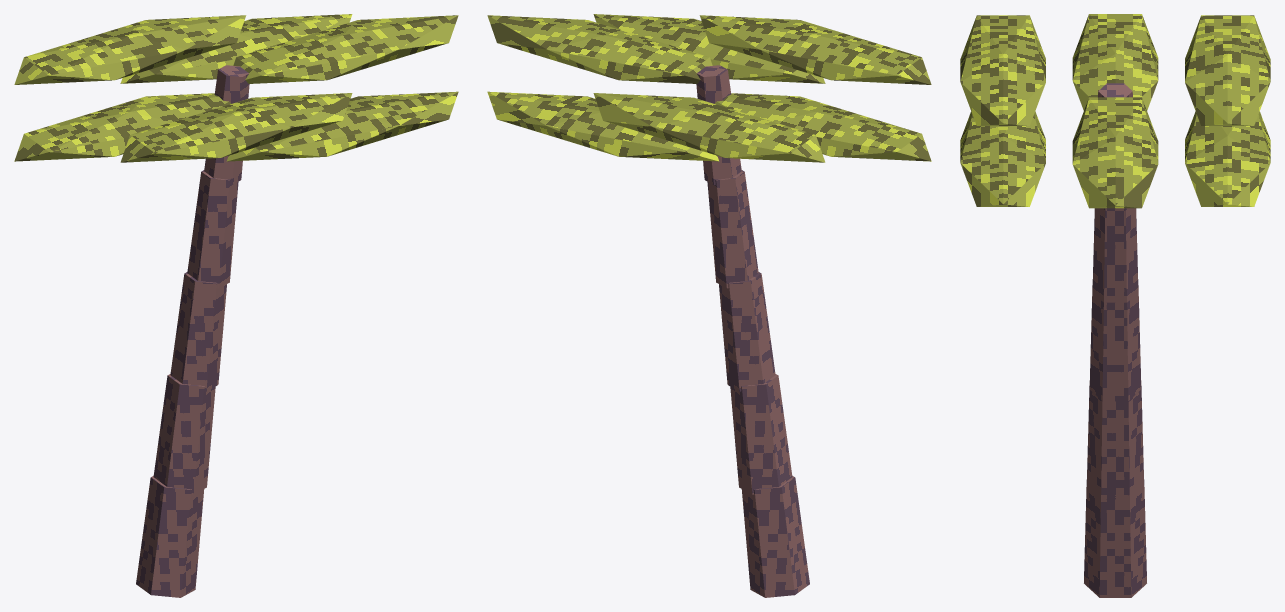
The model's file is oasis_zahra_palmeira.glb.
3 views of the same model, side by side, from view 1: azimuth 30°, elevation 25°; view 2: azimuth 150°, elevation 25°; view 3: azimuth 270°, elevation 25° (orthographic). The views are drawn at different scales.
Visible parts, largest first — view 1: oasis_zahra_palmeira; view 2: oasis_zahra_palmeira; view 3: oasis_zahra_palmeira.
Boxes of the visible parts, x1,y1,x2,y2 form: oasis_zahra_palmeira: (14, 14, 458, 597); oasis_zahra_palmeira: (487, 14, 931, 597); oasis_zahra_palmeira: (960, 14, 1270, 597).
Bounding box in the file's own units: 3.77 × 4.14 × 2.15.
Materials: 2 (2 with a texture image).
